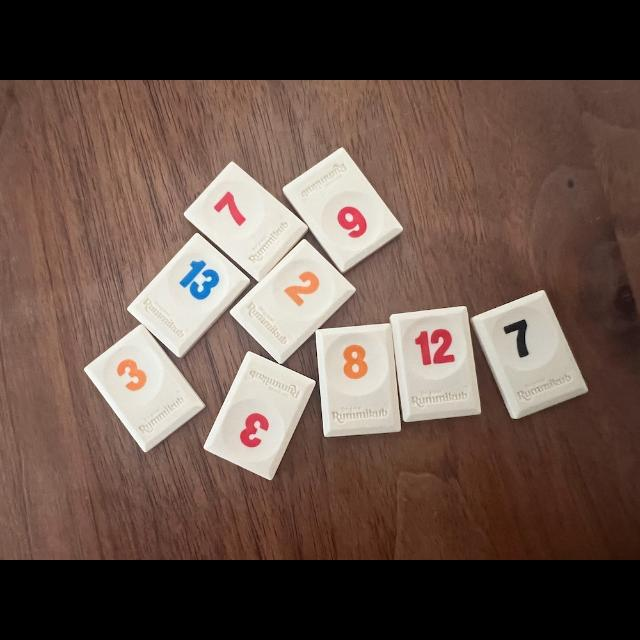black_7: (471, 291, 588, 419)
blue_13: (129, 234, 250, 358)
orange_2: (230, 240, 355, 364)
orange_3: (85, 325, 205, 451)
orange_8: (317, 324, 401, 436)
red_12: (390, 307, 481, 421)
red_3: (204, 351, 315, 480)
red_6: (284, 148, 402, 272)
red_7: (184, 162, 308, 281)
